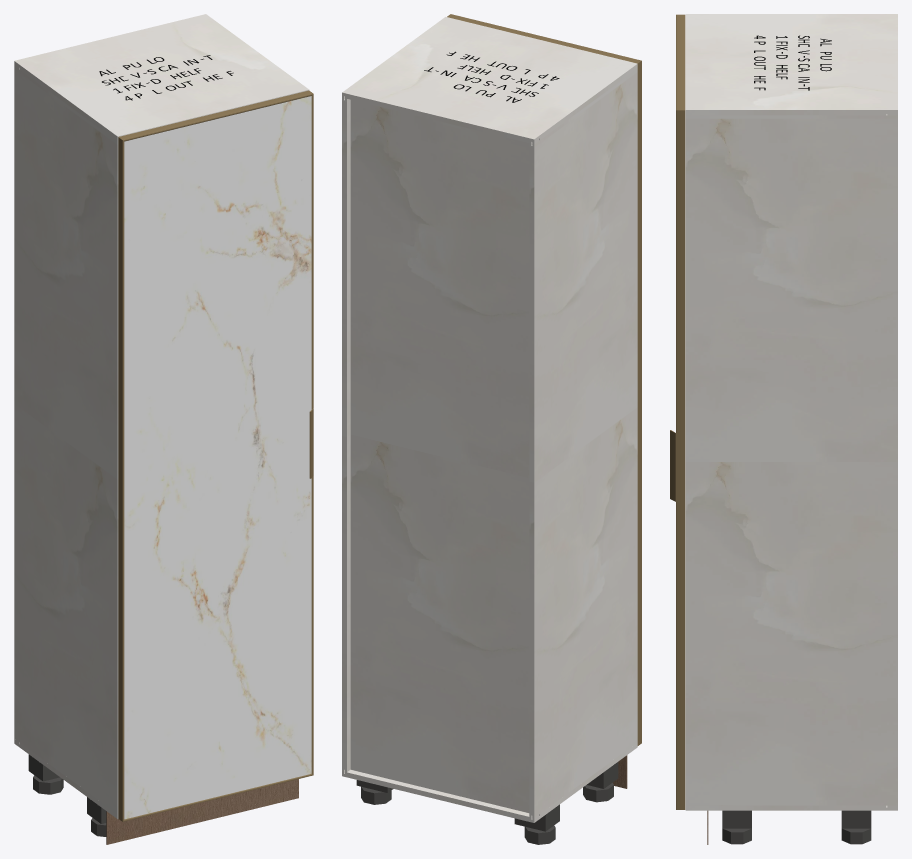
The model's file is TC-PO-TTS-ST-1SX-LHS-4PO-600-2040-560-15.glb.
The picture shows the model from 3 angles, left to right: view 1: azimuth 30°, elevation 25°; view 2: azimuth 150°, elevation 25°; view 3: azimuth 270°, elevation 25°; orthographic projection. The views are drawn at different scales.
Parts seen in each view (by area): view 1: Object_node_123, TP_node_0, TP, Extrusion_node_1, Object_node_125, Extrusion_node, Extrusion, 2D text_node_0, TP_node; view 2: TP_node_7, TP_node_0, TP, TP_node_1, Extrusion_node_1, TP_node, Extrusion, 2D text_node_0; view 3: TP_node_1, TP, Extrusion_node, TP_node, Extrusion, 2D text_node_0, Plate_node, Plate_node_1, ExtrSplGeo_node_2, Foot_node, Foot_node_1.
Part boxes in pixels (x1,y1,x2,y2): Object_node_123: [124, 96, 311, 819]; TP_node_0: [14, 66, 118, 813]; TP: [14, 14, 309, 141]; Extrusion_node_1: [118, 137, 124, 821]; Object_node_125: [106, 779, 298, 844]; Extrusion_node: [311, 94, 313, 774]; Extrusion: [118, 90, 313, 141]; 2D text_node_0: [99, 55, 233, 100]; TP_node: [14, 739, 118, 819]; TP_node_7: [350, 100, 529, 812]; TP_node_0: [529, 69, 637, 817]; TP: [342, 17, 637, 144]; TP_node_1: [342, 97, 350, 772]; Extrusion_node_1: [637, 61, 641, 745]; TP_node: [342, 742, 637, 822]; Extrusion: [447, 14, 641, 63]; 2D text_node_0: [424, 51, 559, 102]; TP_node_1: [685, 114, 897, 805]; TP: [685, 14, 897, 115]; Extrusion_node: [676, 110, 685, 809]; TP_node: [685, 805, 897, 810]; Extrusion: [676, 14, 685, 110]; 2D text_node_0: [754, 35, 831, 90]; Plate_node: [841, 810, 871, 828]; Plate_node_1: [722, 810, 751, 828]; ExtrSplGeo_node_2: [670, 430, 676, 501]; Foot_node: [841, 828, 871, 844]; Foot_node_1: [722, 828, 751, 844].
Size of what is drawn, in the model's own units: 0.6 by 2.14 by 0.6012.
9 materials, 3 textured.
